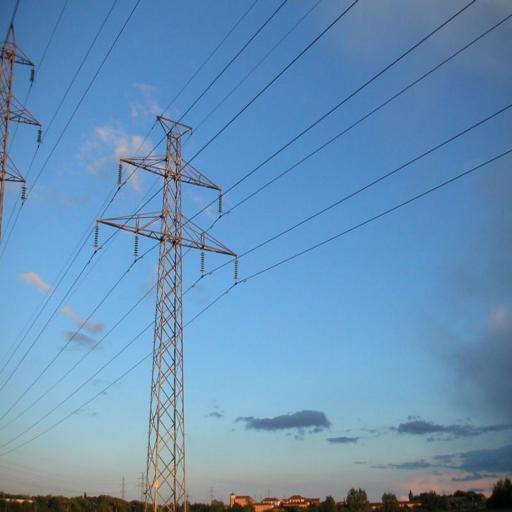ss_2: (94, 112, 238, 512)
